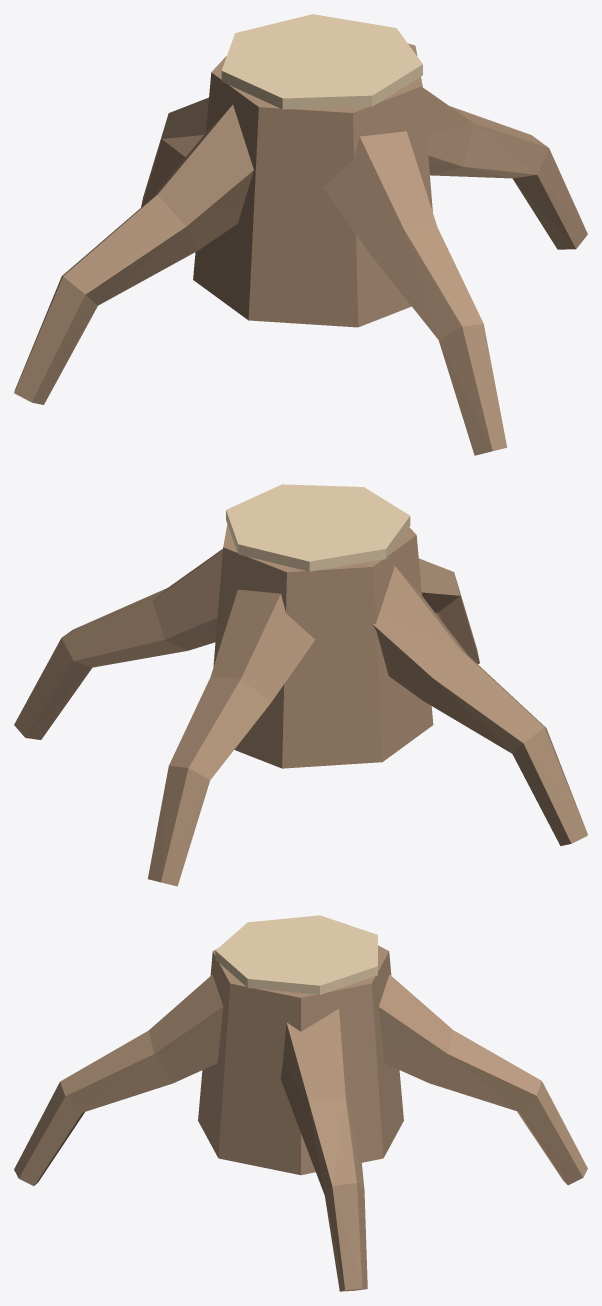
File: toco.fbx
3 renders of one model, top to bottom at view 1: azimuth 30°, elevation 25°; view 2: azimuth 150°, elevation 25°; view 3: azimuth 270°, elevation 25°, orthographic. The views are drawn at different scales.
Parts seen in each view (by area): view 1: toco~Toco@bark, toco~Raiz 3@bark, toco~Raiz 2@bark, toco~Corte@woodcut, toco~Raiz 0@bark, toco~Raiz 1@bark; view 2: toco~Toco@bark, toco~Raiz 1@bark, toco~Raiz 2@bark, toco~Raiz 0@bark, toco~Corte@woodcut, toco~Raiz 3@bark; view 3: toco~Toco@bark, toco~Raiz 0@bark, toco~Raiz 3@bark, toco~Raiz 1@bark, toco~Corte@woodcut.
Boxes of the visible parts, bbox=[...] form: toco~Toco@bark: bbox=[193, 43, 432, 327]; toco~Raiz 3@bark: bbox=[323, 131, 507, 455]; toco~Raiz 2@bark: bbox=[14, 105, 253, 404]; toco~Corte@woodcut: bbox=[221, 14, 422, 109]; toco~Raiz 0@bark: bbox=[423, 88, 587, 249]; toco~Raiz 1@bark: bbox=[141, 97, 208, 207]; toco~Toco@bark: bbox=[213, 524, 433, 768]; toco~Raiz 1@bark: bbox=[148, 589, 315, 886]; toco~Raiz 2@bark: bbox=[372, 566, 587, 846]; toco~Raiz 0@bark: bbox=[14, 549, 222, 739]; toco~Corte@woodcut: bbox=[226, 484, 410, 571]; toco~Raiz 3@bark: bbox=[418, 558, 479, 663]; toco~Toco@bark: bbox=[198, 945, 403, 1175]; toco~Raiz 0@bark: bbox=[280, 1009, 367, 1291]; toco~Raiz 3@bark: bbox=[14, 974, 223, 1185]; toco~Raiz 1@bark: bbox=[379, 974, 587, 1185]; toco~Corte@woodcut: bbox=[215, 915, 377, 994].
Bounding box in the file's own units: 2.26 × 1.02 × 2.28.
